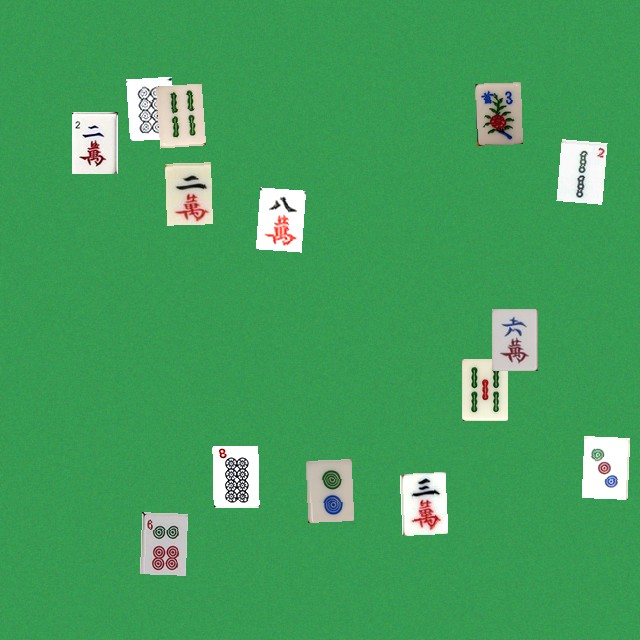tile: (556, 139, 602, 201), (139, 512, 185, 574), (461, 358, 507, 420), (126, 76, 172, 138), (165, 162, 211, 224), (581, 436, 627, 498), (399, 471, 445, 533), (71, 111, 117, 173), (255, 187, 301, 249), (491, 308, 537, 370), (474, 82, 520, 144), (212, 445, 258, 507), (155, 83, 201, 145), (305, 459, 351, 521)
